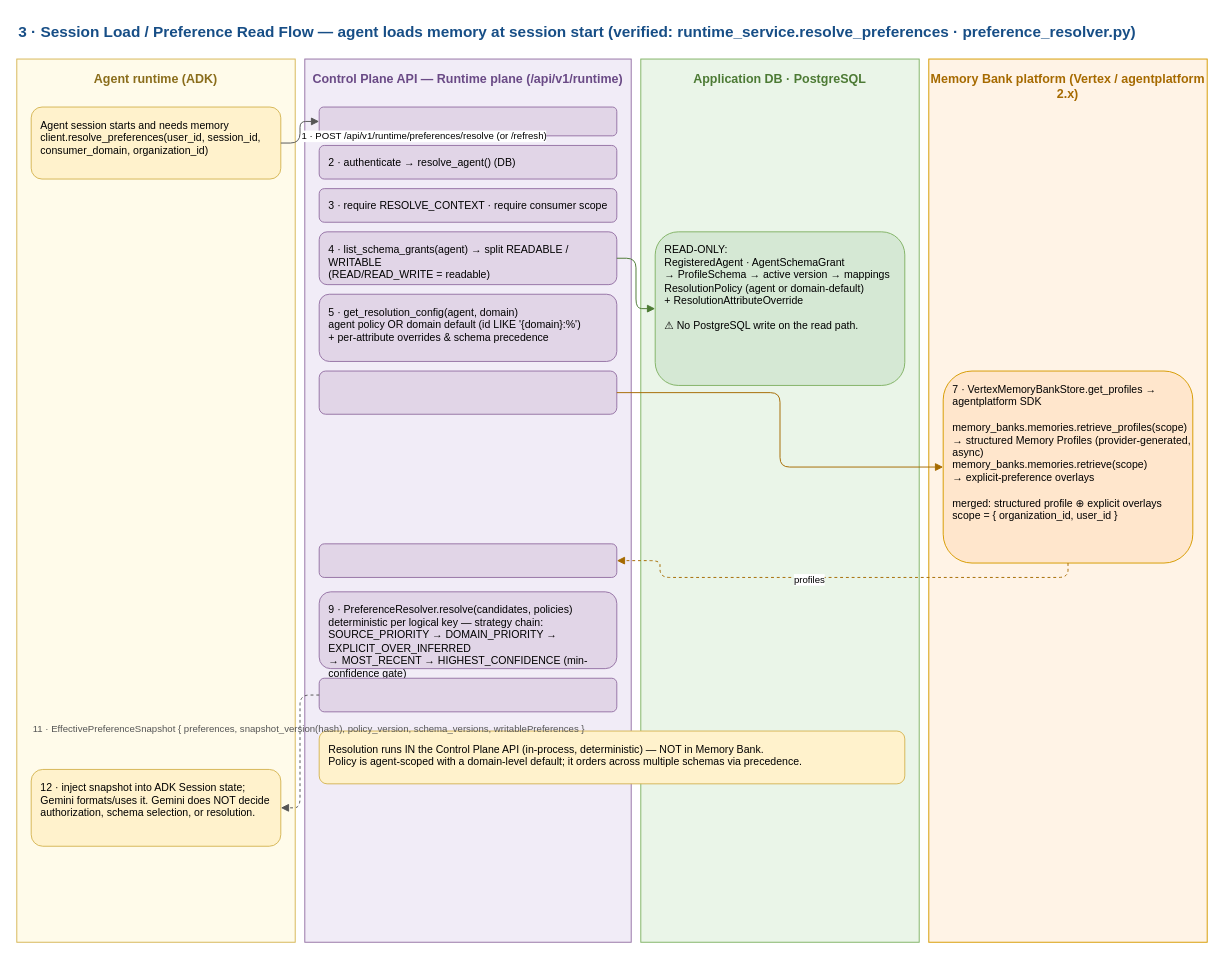
Image size: 1224x959. Some labels were removed from this diagram. Here are the shapes that lost their labels. From the top down, the centre of each, then its label:
the point at 467,121: RuntimeMemoryService.resolve_preferences
the point at 467,392: 6 · for each READABLE grant: store.get_profiles(owner scope, schema_id)
the point at 467,560: 8 · build candidate Preferences (source = MEMORY_PROFILE)
the point at 467,694: 10 · compute writablePreferences (same-domain writable grants)
